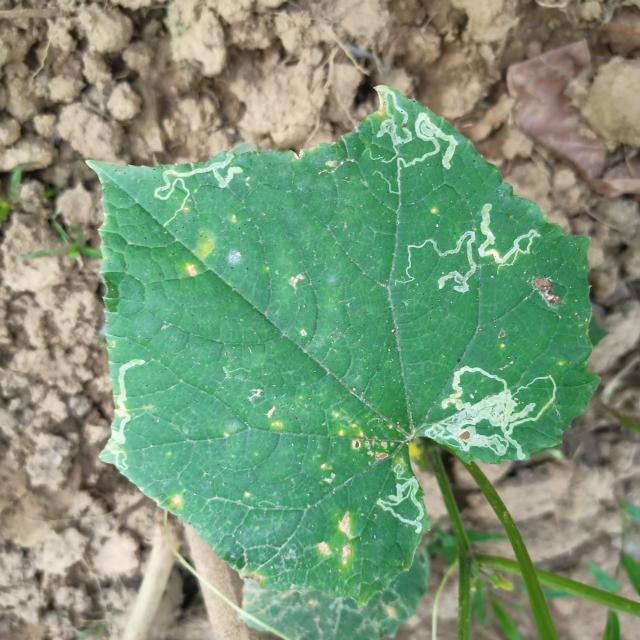disease_cucumber: (324, 404, 392, 464), (313, 507, 360, 568), (180, 227, 218, 281)
